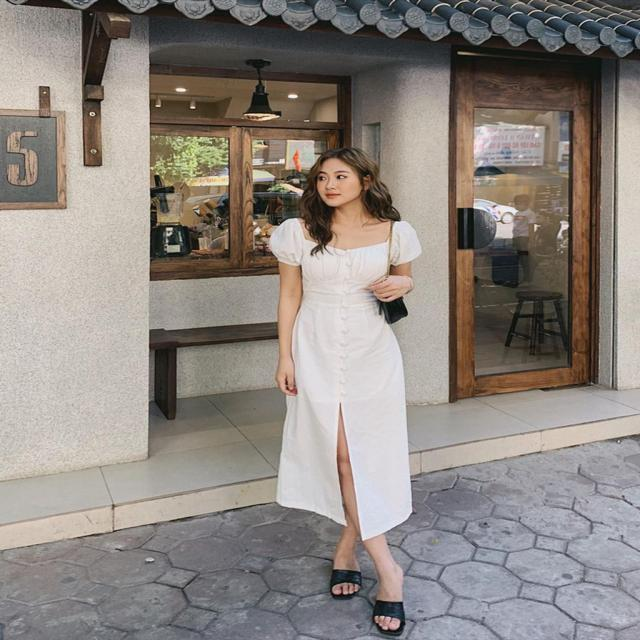clothes: (262, 214, 424, 544)
